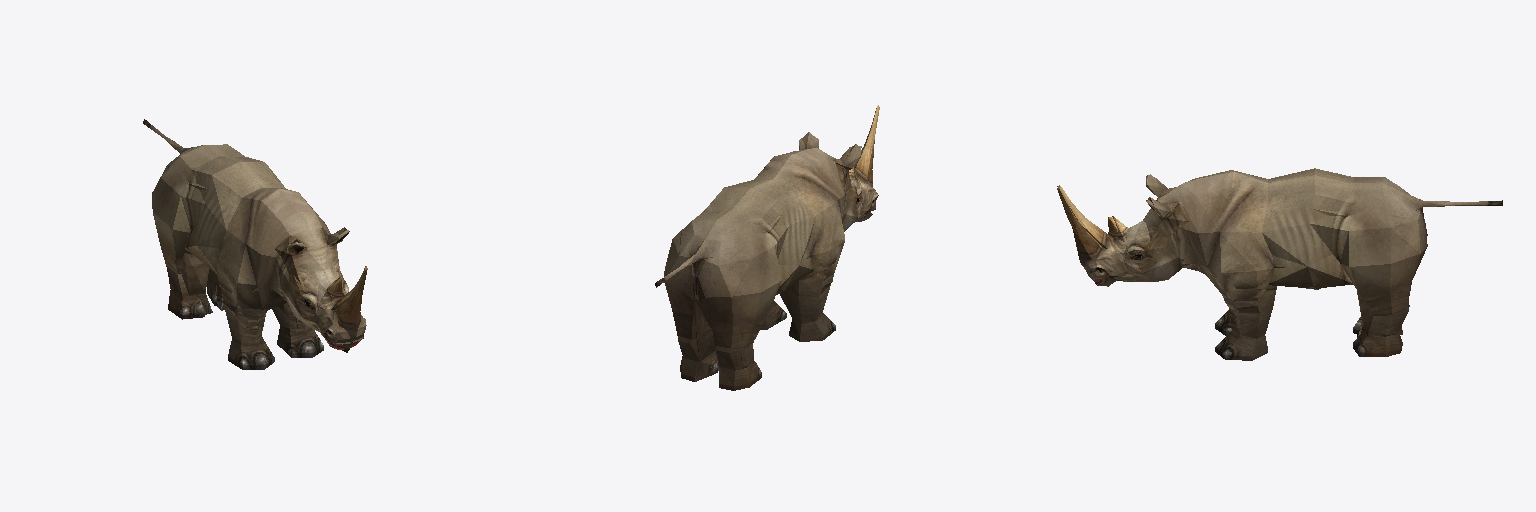
The picture shows the model from 3 angles: view 1: azimuth 30°, elevation 25°; view 2: azimuth 150°, elevation 25°; view 3: azimuth 270°, elevation 25°; orthographic projection.
Parts seen in each view (by area): view 1: Editable_Mesh.000_Editable_Mesh.007, Editable_Mesh.001_Editable_Mesh.008, Editable_Mesh.006; view 2: Editable_Mesh.000_Editable_Mesh.007, Editable_Mesh.001_Editable_Mesh.008, Editable_Mesh.006; view 3: Editable_Mesh.000_Editable_Mesh.007, Editable_Mesh.001_Editable_Mesh.008, Editable_Mesh.006.
Part boxes in pixels (x1,y1,x2,y2): Editable_Mesh.000_Editable_Mesh.007: (152, 144, 367, 349); Editable_Mesh.001_Editable_Mesh.008: (153, 137, 362, 369); Editable_Mesh.006: (143, 119, 360, 352); Editable_Mesh.000_Editable_Mesh.007: (664, 105, 879, 369); Editable_Mesh.001_Editable_Mesh.008: (655, 137, 874, 390); Editable_Mesh.006: (657, 126, 875, 380); Editable_Mesh.000_Editable_Mesh.007: (1057, 168, 1420, 351); Editable_Mesh.001_Editable_Mesh.008: (1057, 183, 1502, 360); Editable_Mesh.006: (1068, 174, 1502, 336).
Bounding box in the file's own units: 1.18 × 1.88 × 4.51.
3 materials, 1 textured.